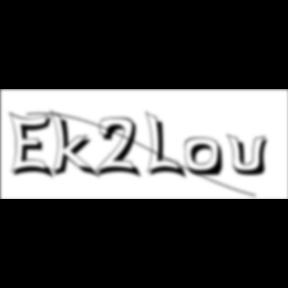2: (96, 117, 146, 181)
E: (9, 110, 58, 182)
L: (146, 110, 190, 182)
k: (50, 108, 102, 181)
o: (184, 137, 226, 179)
u: (227, 132, 275, 178)
